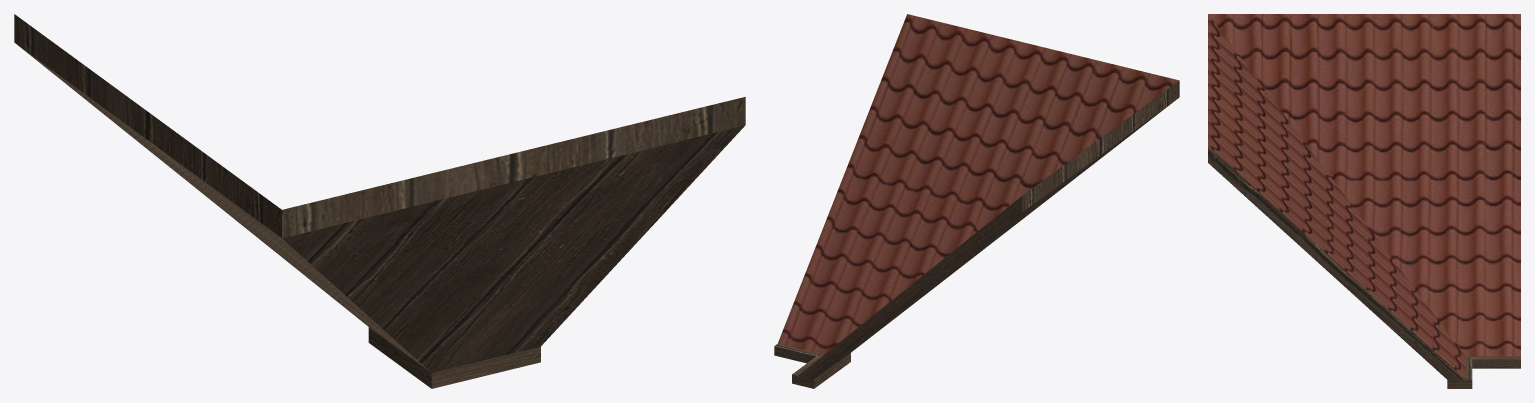
The model's file is ARC1010393.fbx.
3 views of the same model, side by side, from view 1: azimuth 30°, elevation 25°; view 2: azimuth 150°, elevation 25°; view 3: azimuth 270°, elevation 25° (orthographic). The views are drawn at different scales.
Visible parts, largest first — view 1: smARC1010393; view 2: smARC1010393; view 3: smARC1010393.
Part boxes in pixels (x1,y1,x2,y2): smARC1010393: (14, 14, 745, 388); smARC1010393: (774, 14, 1179, 388); smARC1010393: (1208, 14, 1520, 388).
Bounding box in the file's own units: 380 × 325 × 380.
Materials: 1 (1 with a texture image).
